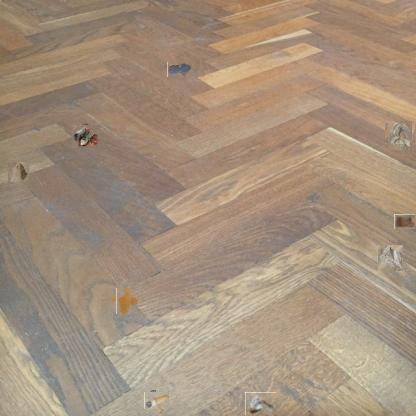dirty: (386, 121, 414, 149), (245, 392, 276, 415), (377, 245, 403, 272), (73, 123, 99, 149), (7, 161, 29, 182), (146, 390, 167, 411), (394, 214, 415, 229)
liquid: (114, 291, 134, 312), (167, 61, 192, 77)
